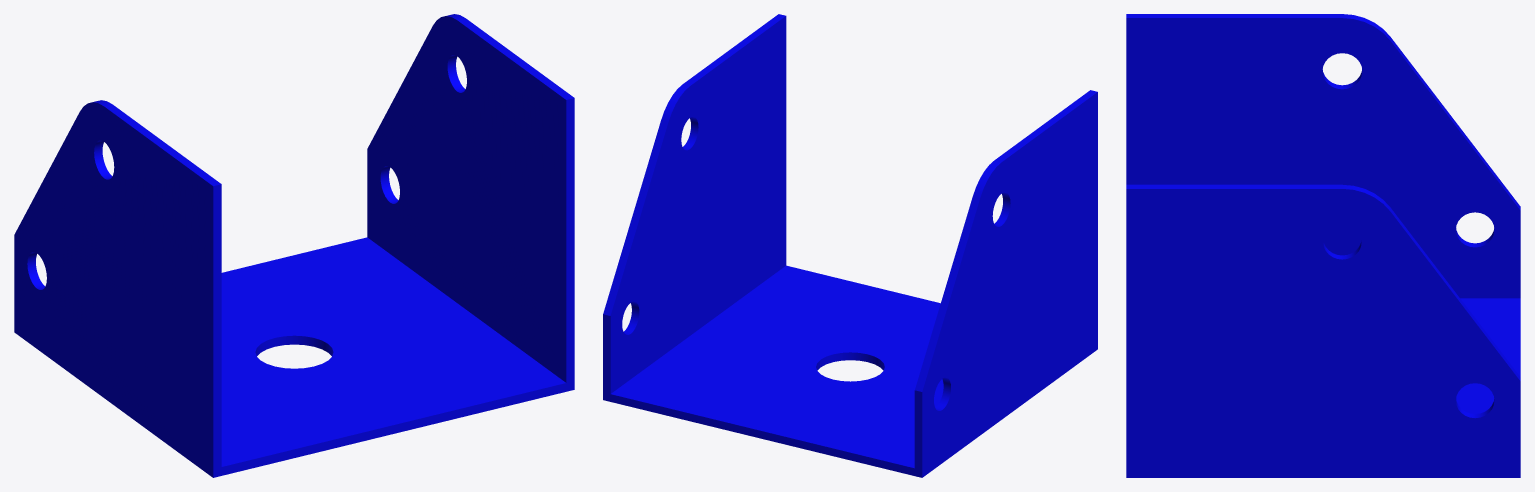
File: level one.dae
3 renders of one model, left to right at view 1: azimuth 30°, elevation 25°; view 2: azimuth 150°, elevation 25°; view 3: azimuth 270°, elevation 25°, orthographic. The views are drawn at different scales.
Visible parts, largest first — view 1: Body_1; view 2: Body_1; view 3: Body_1.
Part boxes in pixels (x1,y1,x2,y2): Body_1: (14, 14, 574, 477); Body_1: (603, 14, 1097, 477); Body_1: (1126, 14, 1520, 477).
Size of the model in its own units: 0.214 by 0.204 by 0.165.
